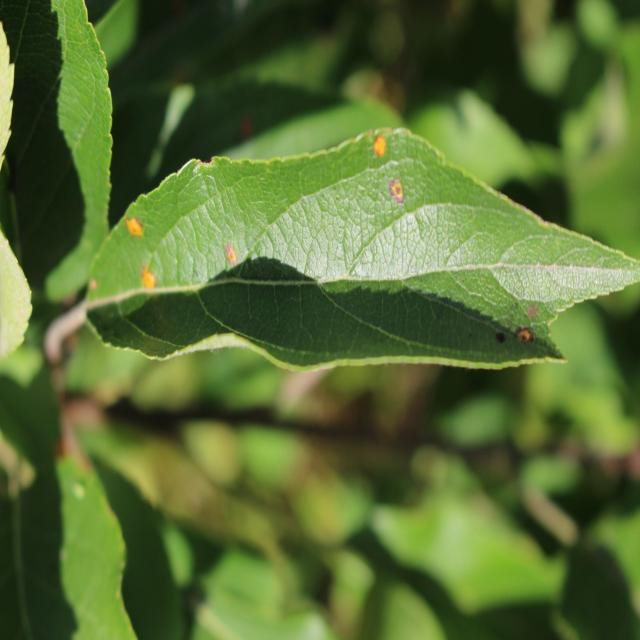Rust: (508, 318, 542, 362), (116, 212, 158, 246), (135, 260, 164, 304), (368, 121, 390, 165), (220, 231, 241, 276), (381, 176, 410, 207)
